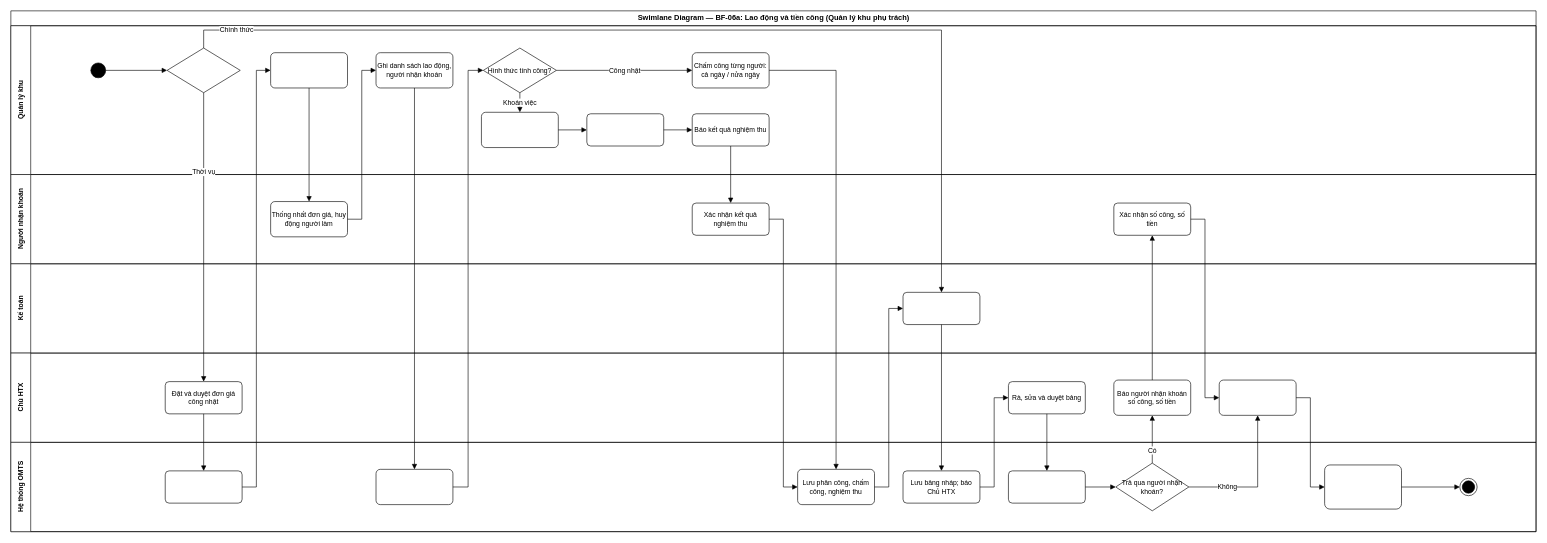
Some shapes in this 1547 by 543 pixel diagram are drawn without their labels. The shapes that lost their labels are listed below. From the top down, each one's centre as x and y in pixels, then its label:
At point (203, 70): "Loại lao động?".
At point (309, 70): "Báo người nhận khoán đơn giá công nhật".
At point (519, 130): "Giao khoán việc: mô tả, số tiền khoán".
At point (625, 129): "Nghiệm thu việc khoán".
At point (941, 308): "Lập bảng công, bảng lương nháp".
At point (1257, 397): "Chi tiền công, lương; ghi chi trả kèm chứng từ".
At point (203, 486): "Lưu đơn giá; trạng thái = Đã duyệt".
At point (414, 487): "Kiểm tra trùng người; lưu danh sách".
At point (1046, 486): "Quyết toán = Đã duyệt".
At point (1363, 486): "Lưu khoản chi; quyết toán = Đã chi đủ; nhân viên xem được lương".
